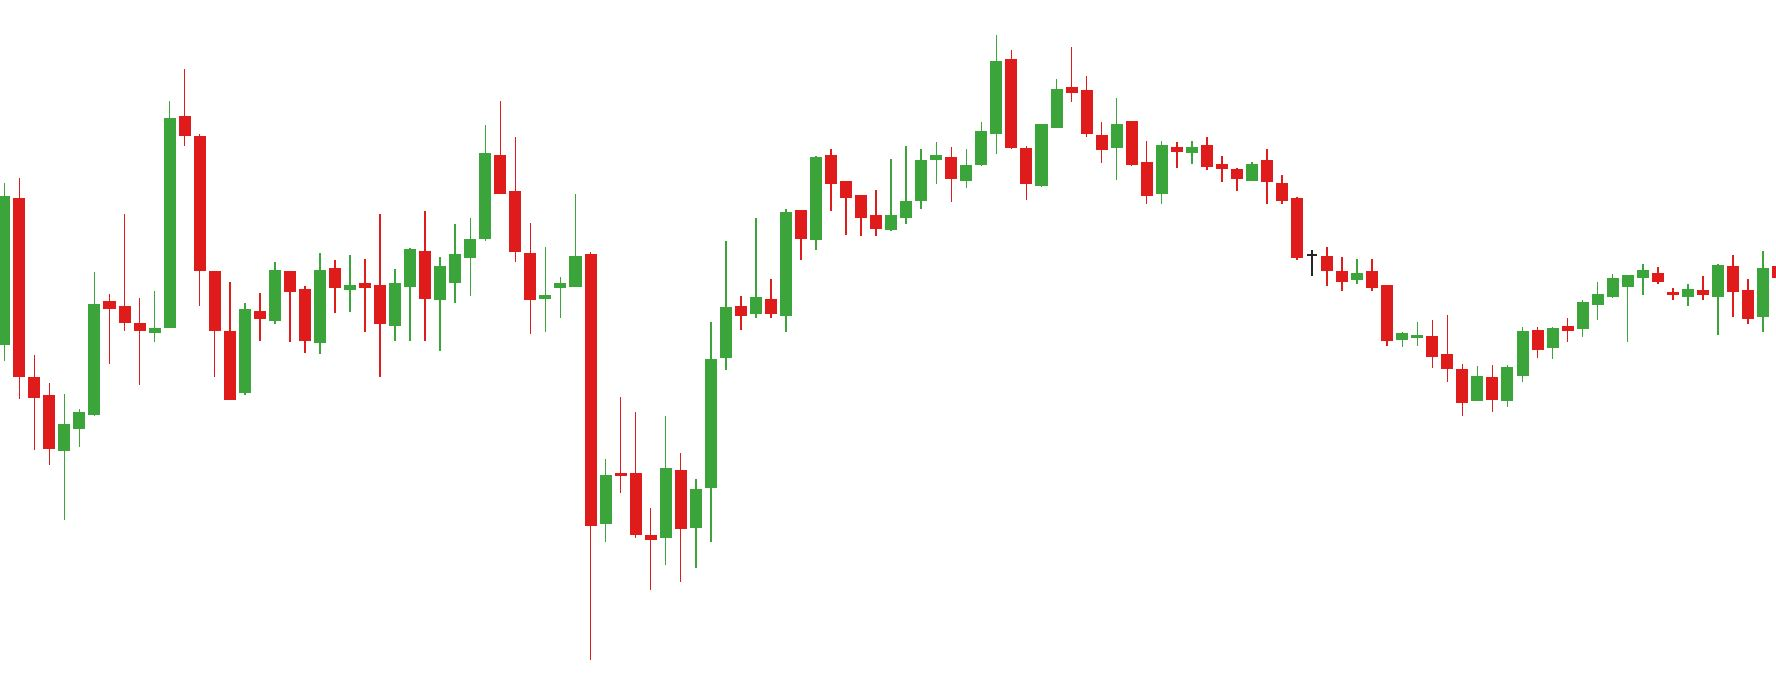buy: (54, 247, 613, 654)
